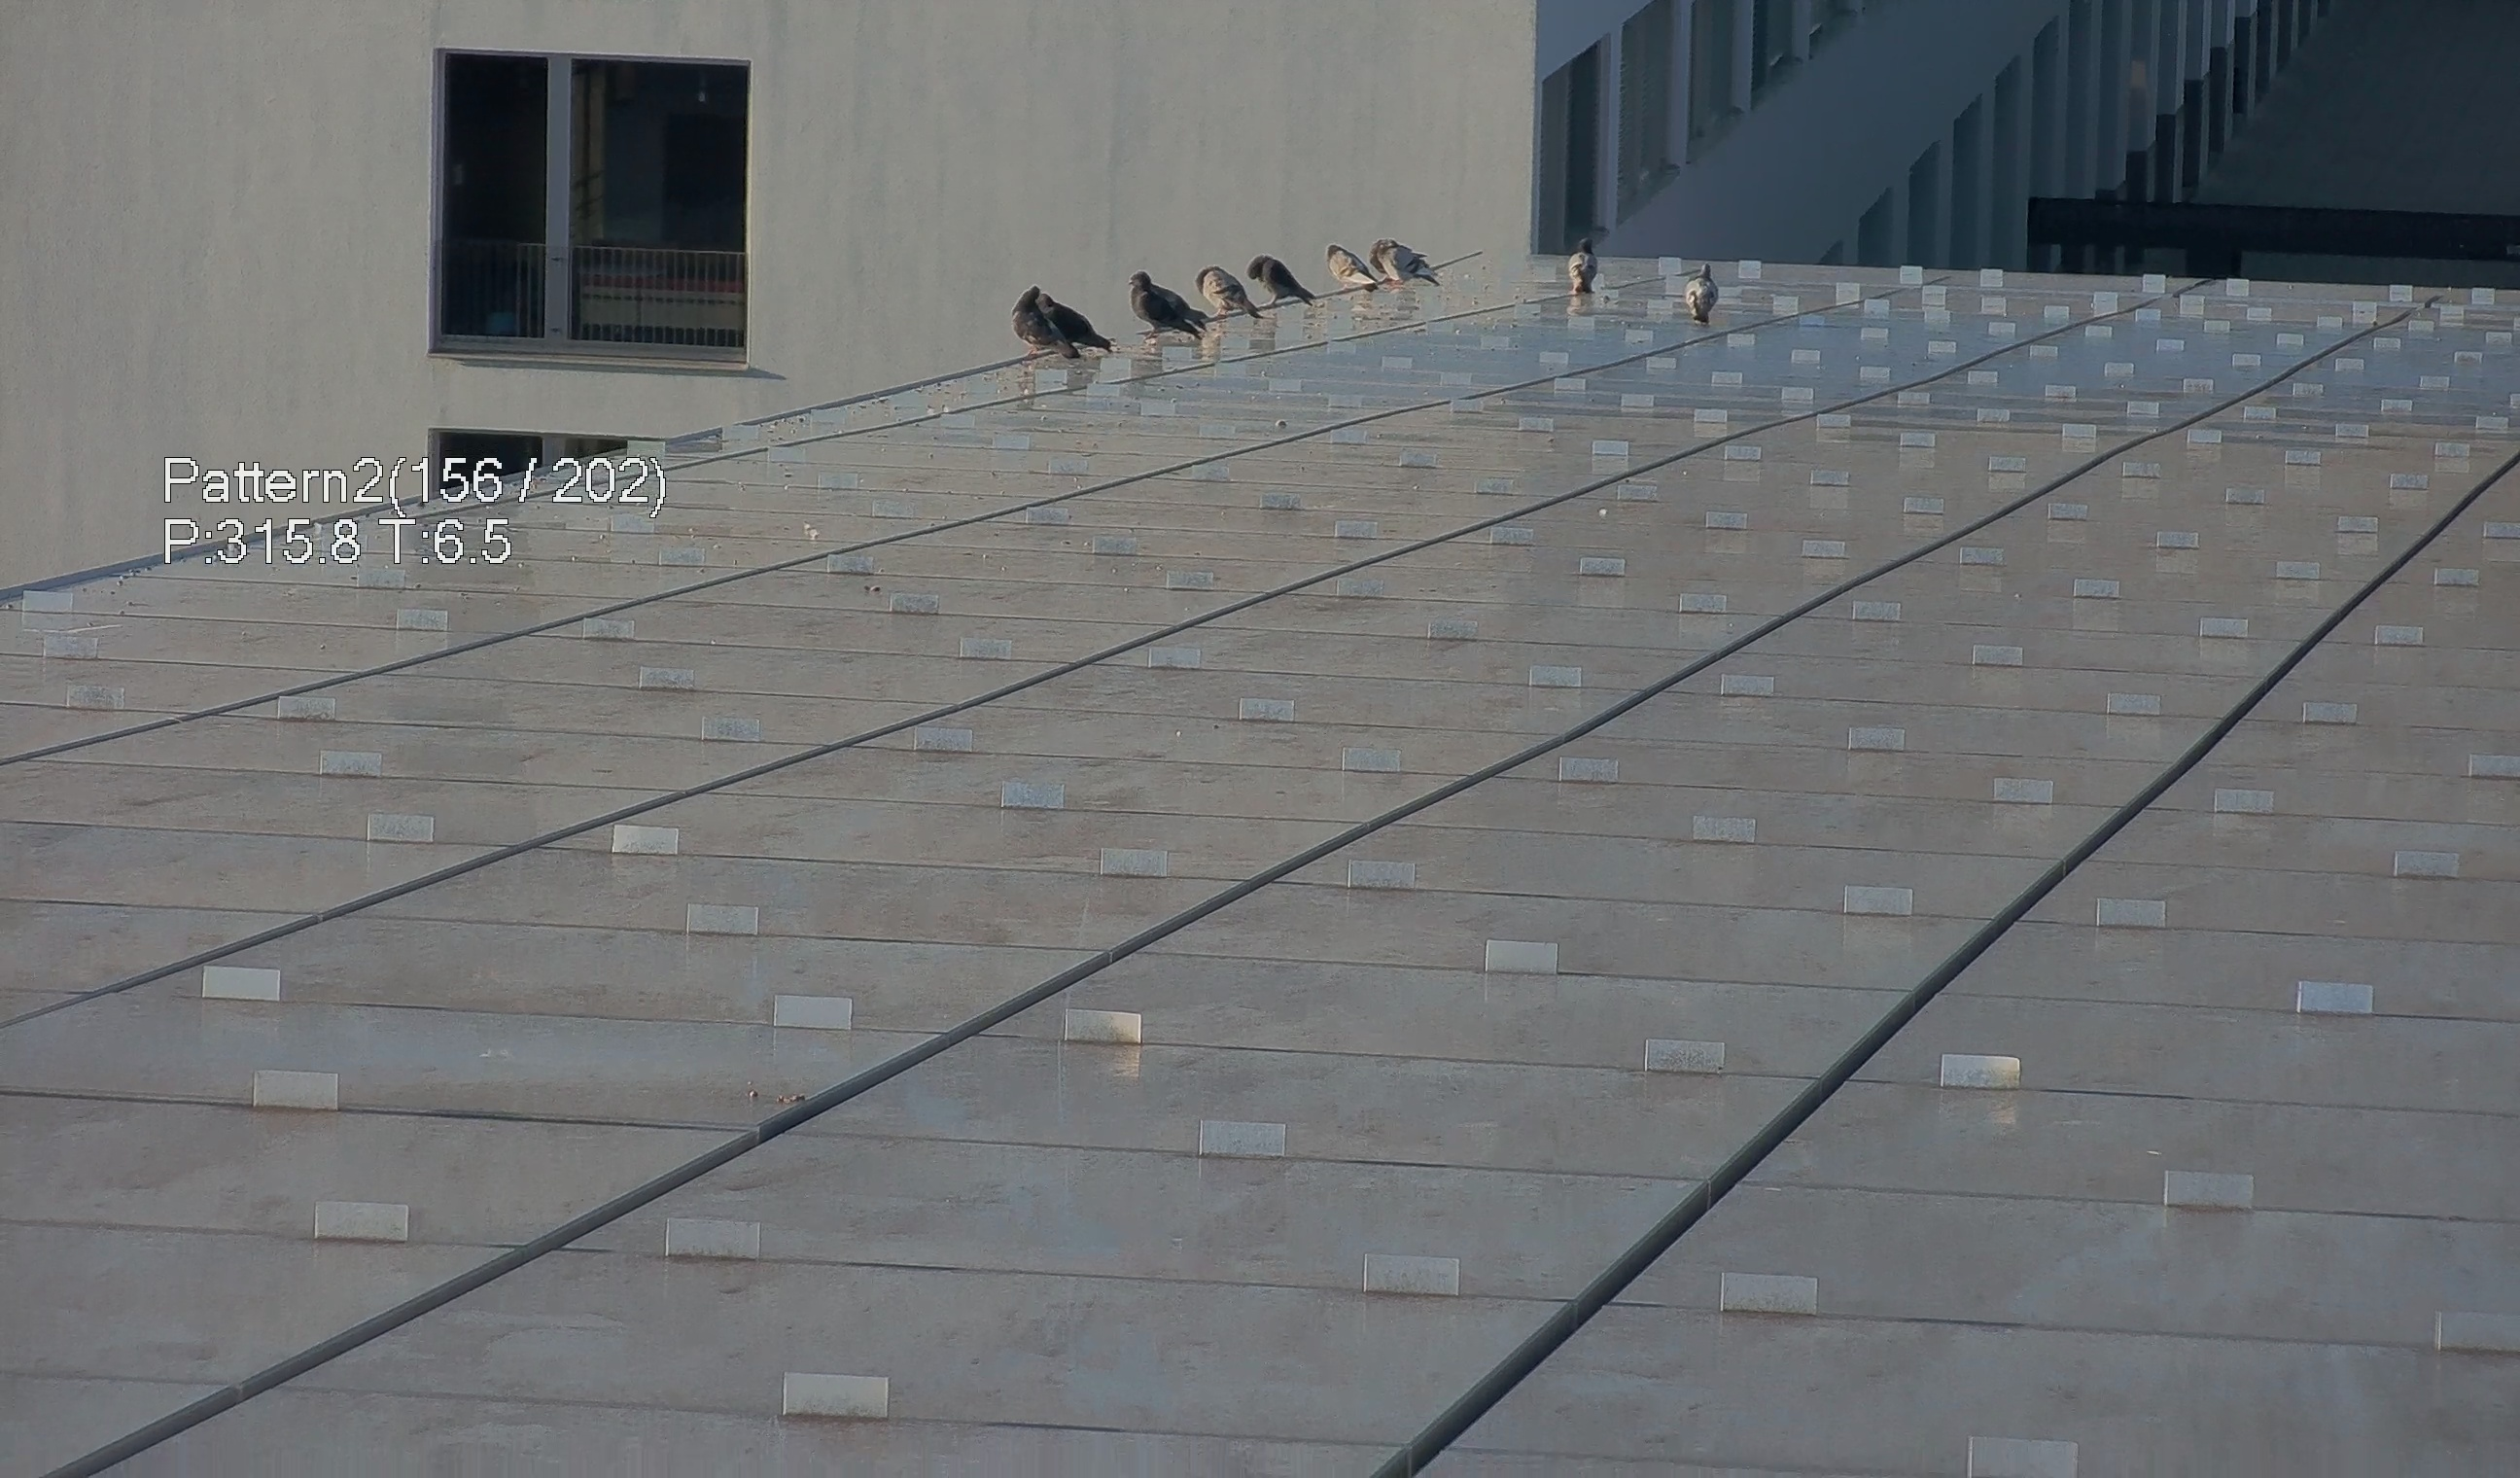Pigeon: (1001, 273, 1120, 366), (1125, 266, 1212, 347), (1189, 260, 1268, 333), (1243, 250, 1328, 310), (1365, 234, 1451, 290), (1314, 234, 1387, 299), (1676, 260, 1723, 326), (1565, 236, 1599, 301)
